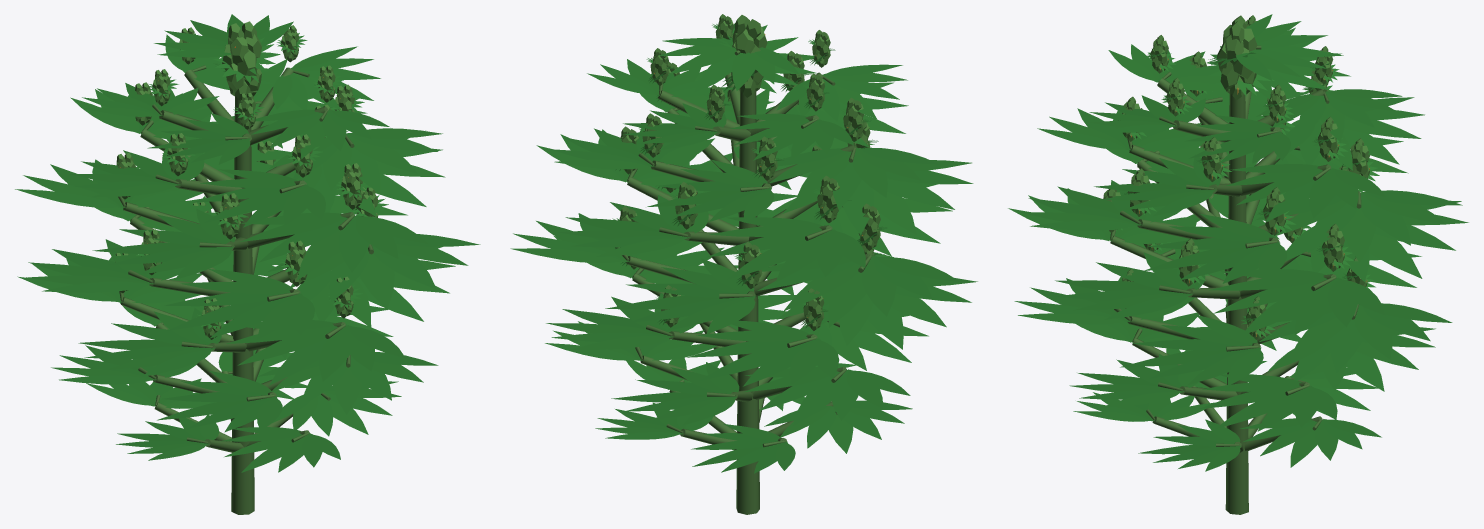
The model's file is plant-harvest.glb.
3 views of the same model, side by side, from view 1: azimuth 30°, elevation 25°; view 2: azimuth 150°, elevation 25°; view 3: azimuth 270°, elevation 25° (orthographic).
Visible parts, largest first — view 1: LeafBlade (×80), Branch (×6); view 2: LeafBlade (×88), Branch (×5); view 3: LeafBlade (×89), Branch (×5).
Boxes of the visible parts, bbox=[...] form: LeafBlade (×80): bbox=[15, 97, 480, 436]; Branch (×6): bbox=[121, 69, 254, 514]; LeafBlade (×88): bbox=[510, 48, 973, 453]; Branch (×5): bbox=[627, 90, 759, 514]; LeafBlade (×89): bbox=[1008, 35, 1462, 467]; Branch (×5): bbox=[1110, 75, 1248, 514].
Size of the model in its own units: 0.9656 by 1.11 by 0.951.
